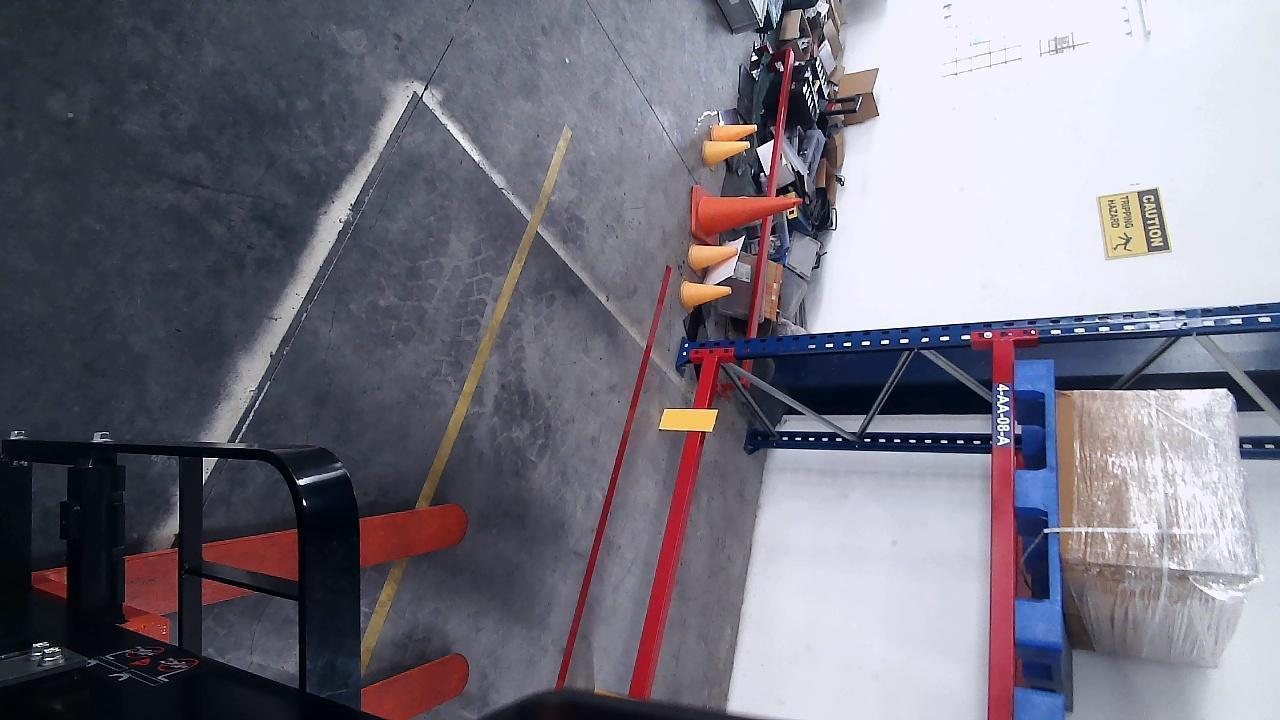red_line: (558, 264, 673, 685)
yellow_line: (361, 122, 576, 673)
